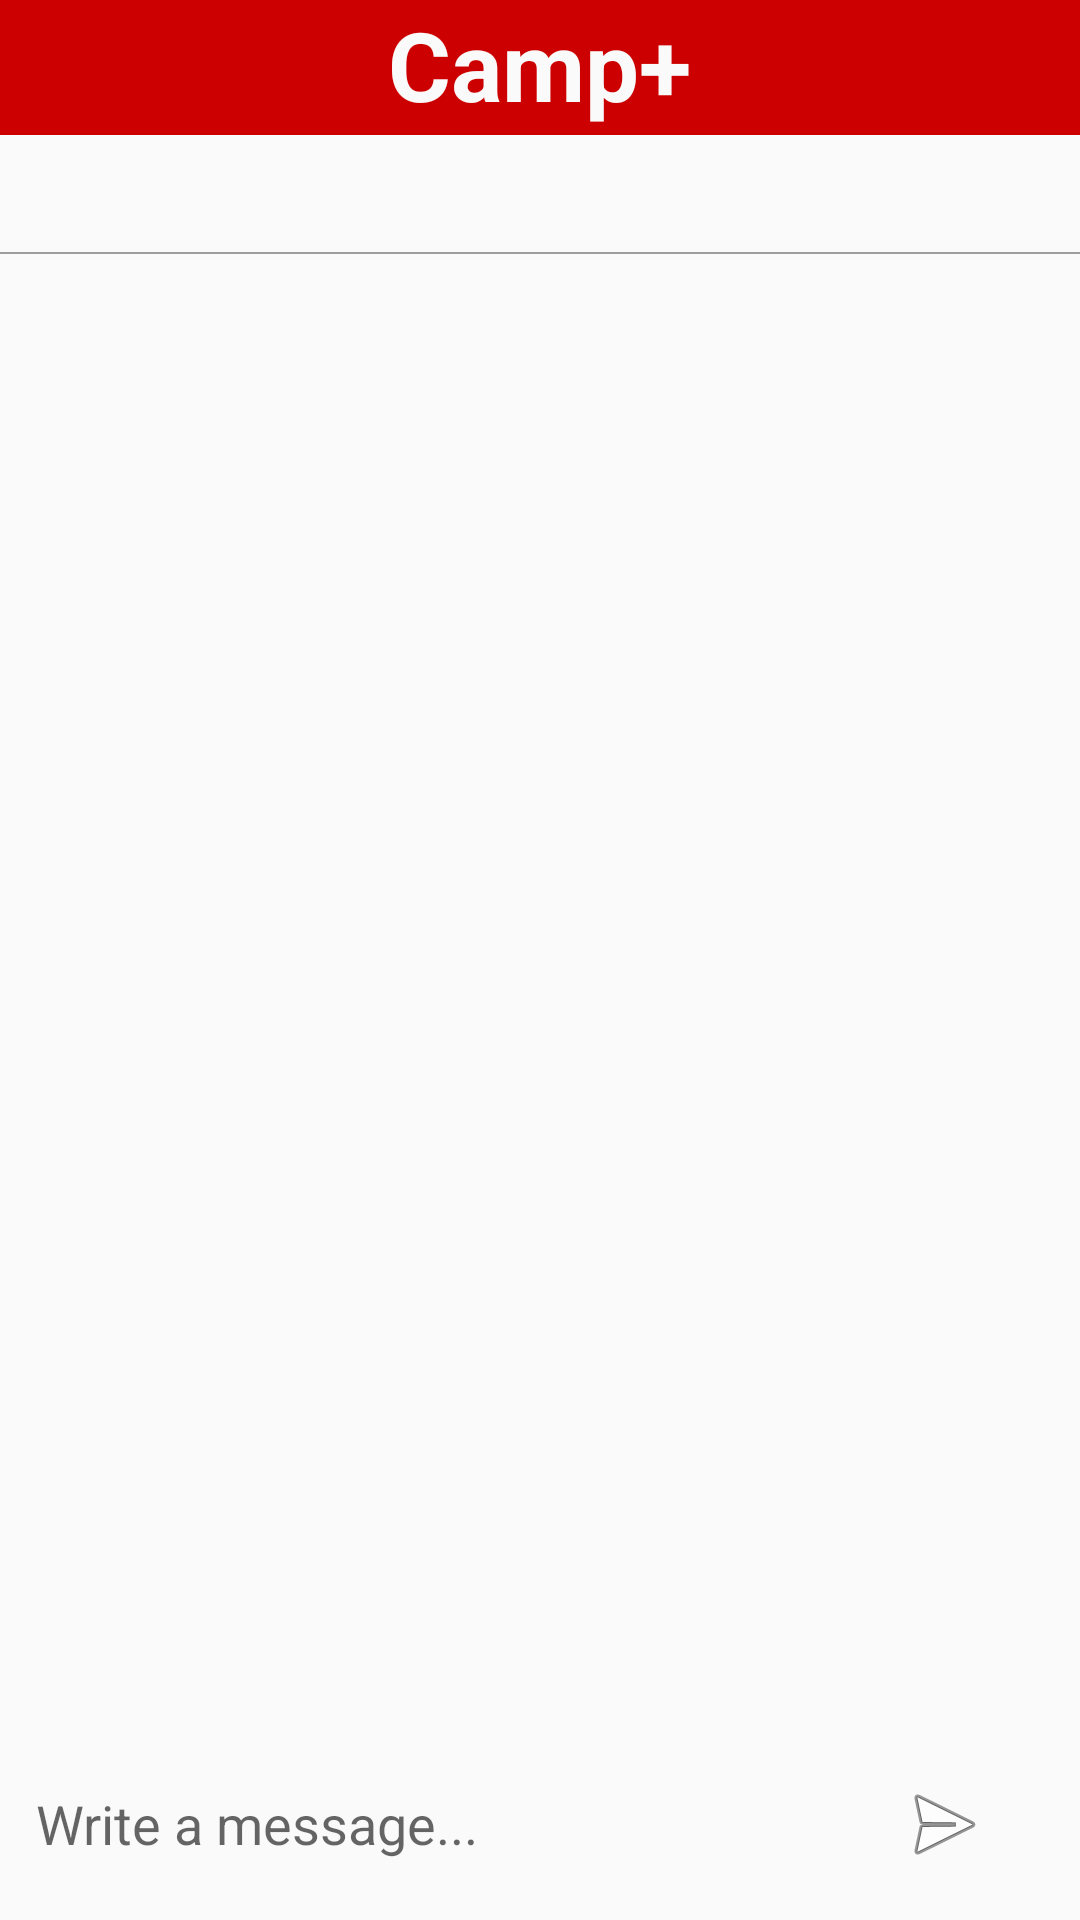

Named icons in this screenshot (1080×1920) and their centers, (x=x, y=y):
send: (x=945, y=1824)
